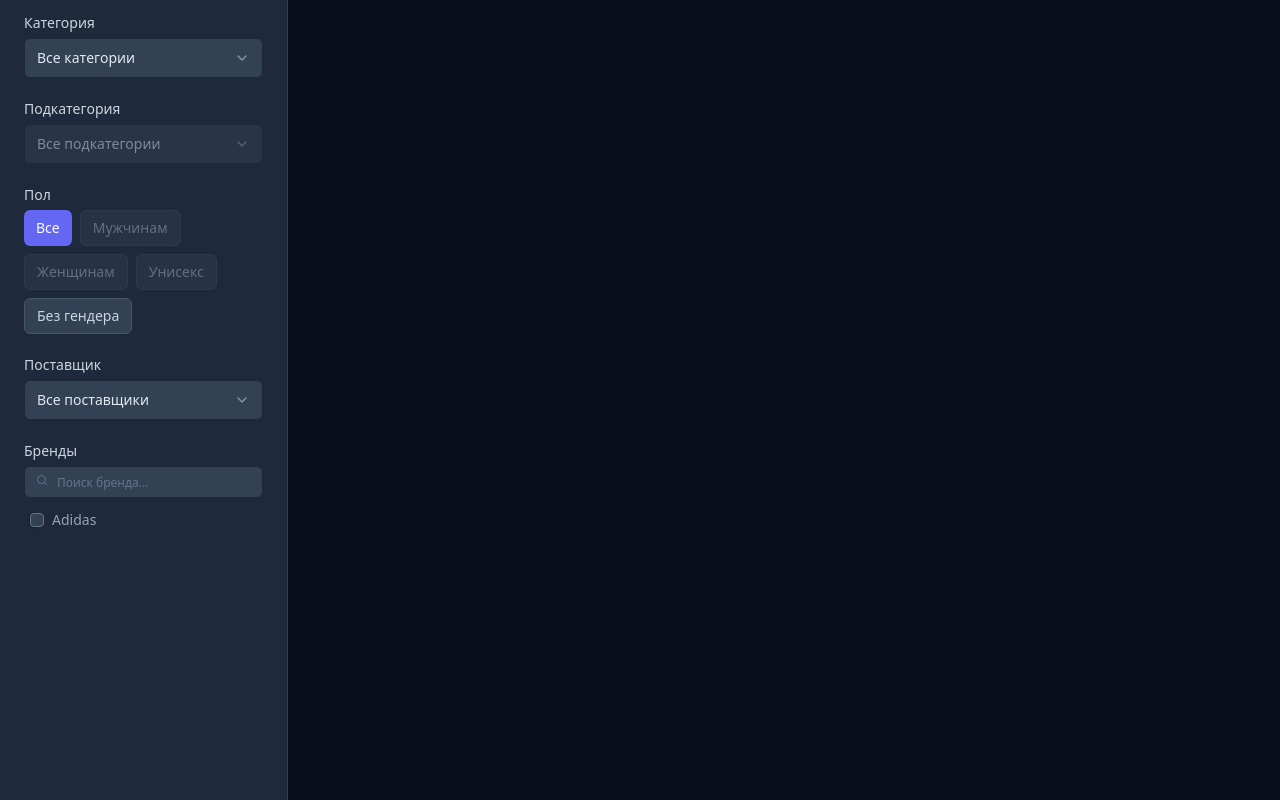
Test: Sidebar faceted filters › renders supplier options with avatars or letter badges
The width and height of the screenshot is (1280, 800).
(page scrolled)
Click the dropdown labelled "поставщик". click: (144, 400)
box: [24,380,263,420]
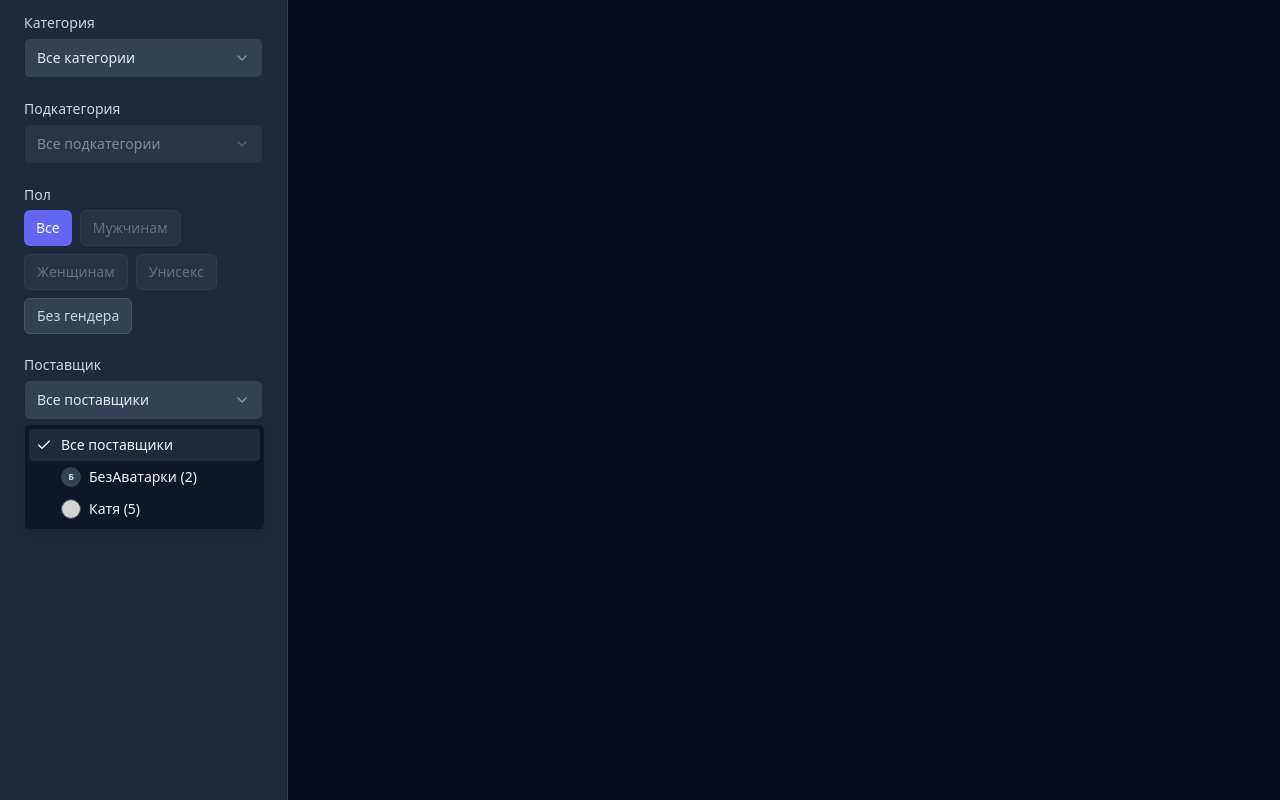
Check: the option "Катя (5)" is shown, box [61,499,140,519]
Check: the option "Б БезАватарки (2)" is shown, box [61,467,197,487]
